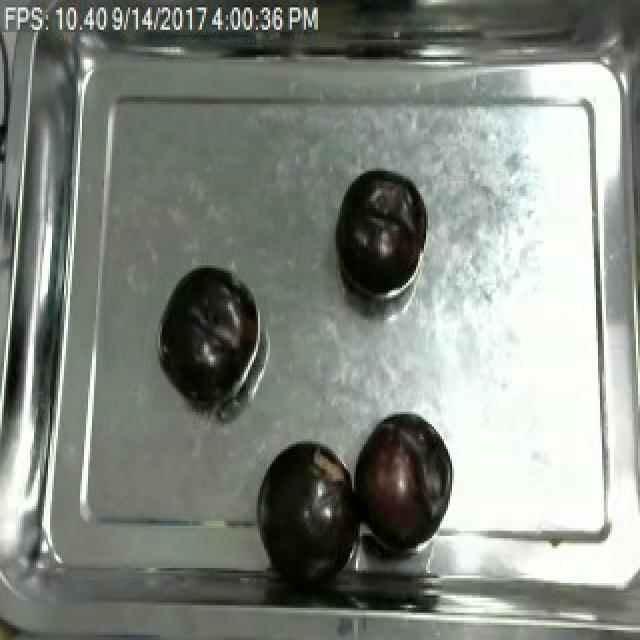Fruit: (152, 260, 260, 404), (350, 407, 456, 553), (250, 436, 356, 570), (330, 168, 426, 302)
